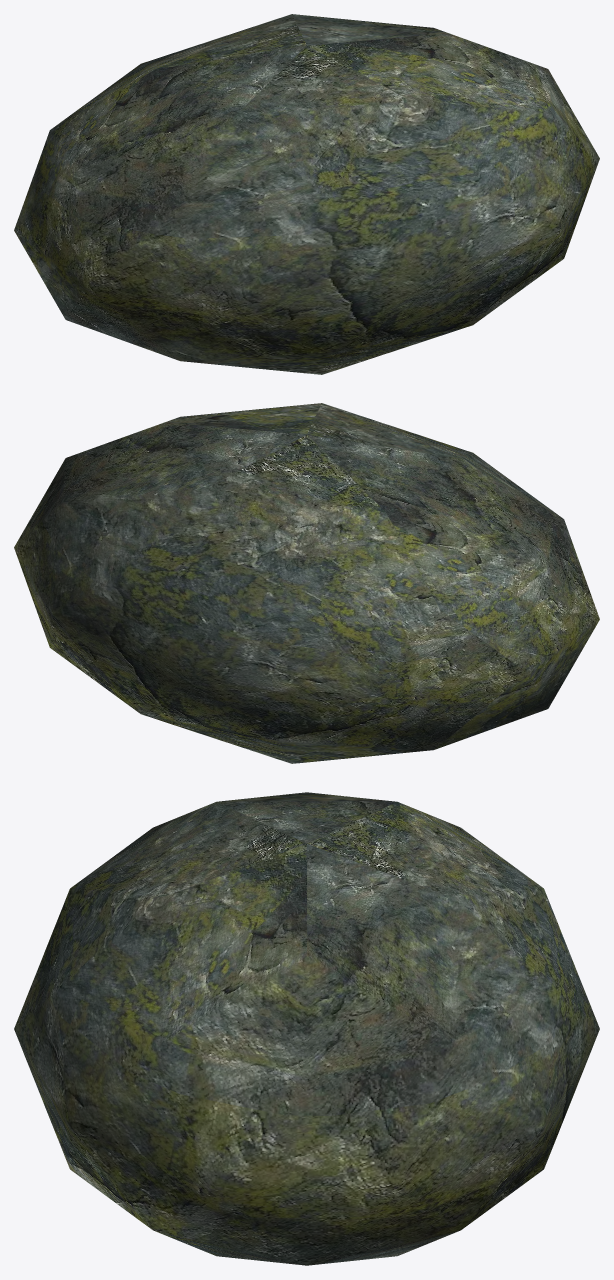
Rendered from KM_VOB_DEAD_BIGROCK_01_4.glb.
3 renders of one model, top to bottom at view 1: azimuth 30°, elevation 25°; view 2: azimuth 150°, elevation 25°; view 3: azimuth 270°, elevation 25°, orthographic. The views are drawn at different scales.
Parts seen in each view (by area): view 1: Mesh; view 2: Mesh; view 3: Mesh.
Boxes of the visible parts, box(x1,y1,x2,y2) form: Mesh: box(14, 14, 599, 374); Mesh: box(14, 403, 599, 763); Mesh: box(14, 792, 599, 1265).
Size of the model in its own units: 2 by 1.11 by 1.59.
Materials: 1 (1 with a texture image).
